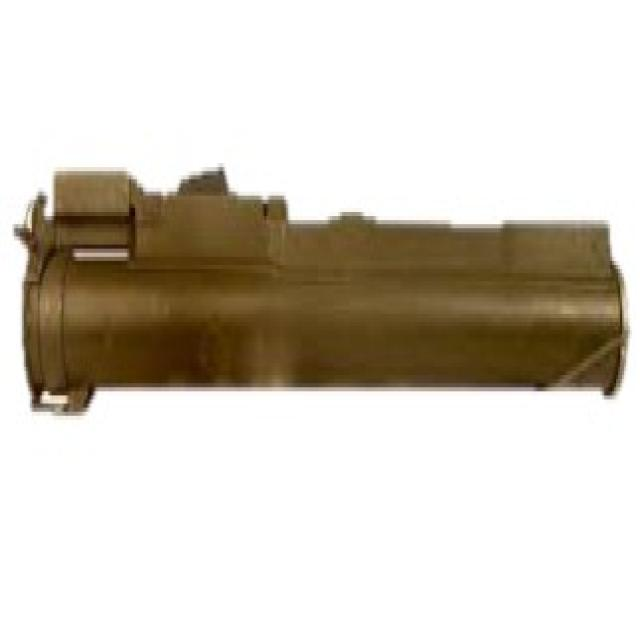bazooka: (9, 141, 634, 426)
